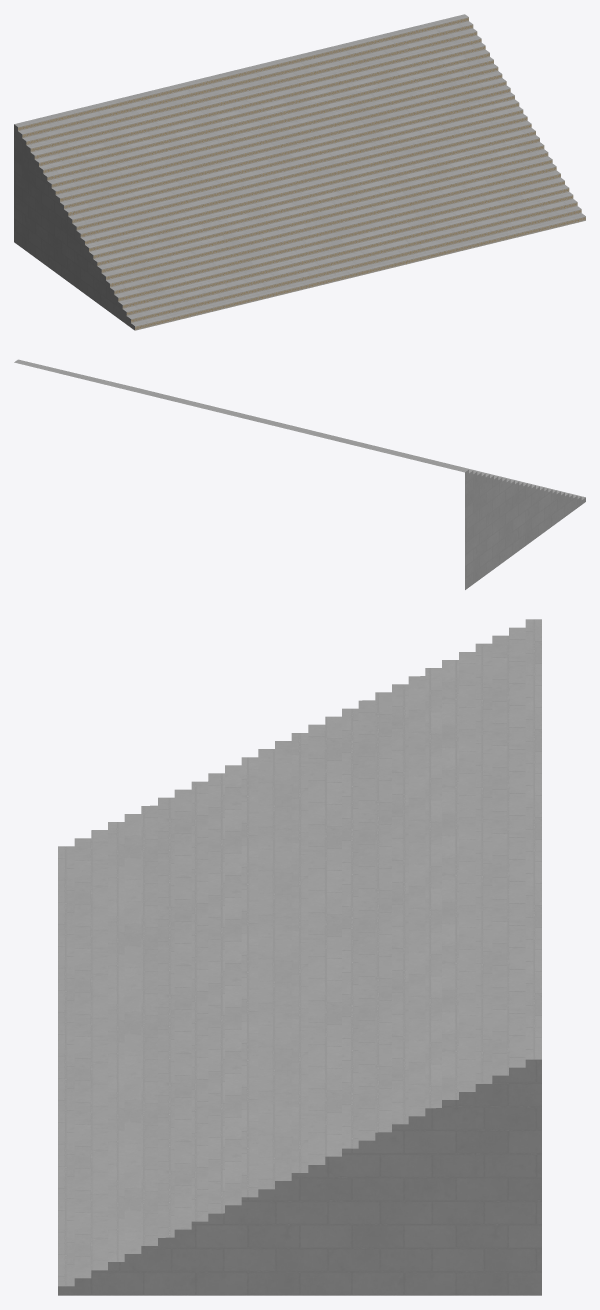
Rendered from SM_stairs.glb.
3 views of the same model, one above another, from view 1: azimuth 30°, elevation 25°; view 2: azimuth 150°, elevation 25°; view 3: azimuth 270°, elevation 25° (orthographic). The views are drawn at different scales.
Visible parts, largest first — view 1: SM_stairs; view 2: SM_stairs; view 3: SM_stairs.
Part boxes in pixels (x1=…): SM_stairs: x1=14, y1=14, x2=585, y2=330; SM_stairs: x1=14, y1=359, x2=585, y2=589; SM_stairs: x1=58, y1=619, x2=541, y2=1295.
Size of the model in its own units: 20 by 5 by 9.3.
Materials: 2 (2 with a texture image).
